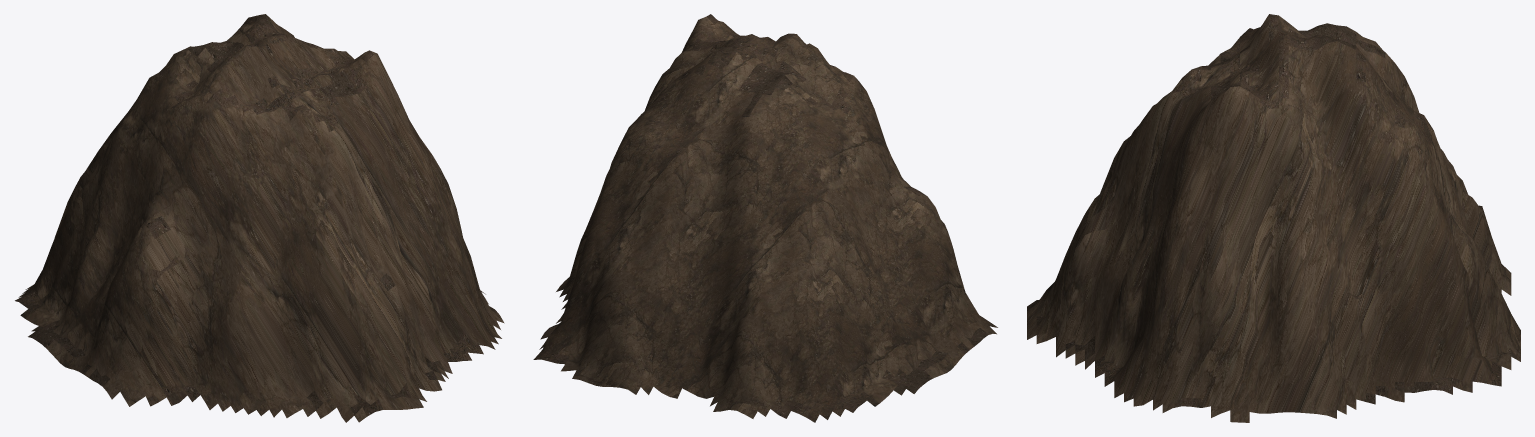
Rendered from border_shelf_b_v5_dead.glb.
3 renders of one model, left to right at view 1: azimuth 30°, elevation 25°; view 2: azimuth 150°, elevation 25°; view 3: azimuth 270°, elevation 25°, orthographic. The views are drawn at different scales.
Visible parts, largest first — view 1: border_shelf_b; view 2: border_shelf_b; view 3: border_shelf_b.
Part boxes in pixels (<box>): border_shelf_b: <box>15,14,504,422</box>; border_shelf_b: <box>533,14,997,422</box>; border_shelf_b: <box>1027,14,1520,422</box>.
Size of the model in its own units: 0.9796 by 0.694 by 1.04.
Materials: 2 (2 with a texture image).
